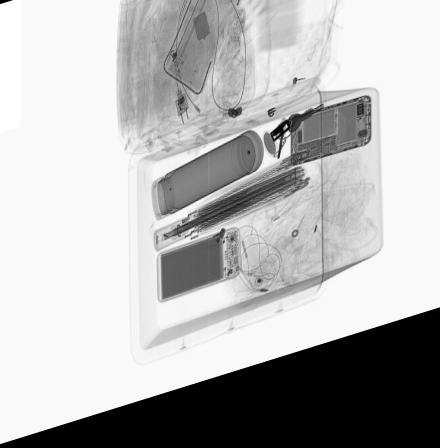Powerbank: (156, 241, 239, 312)
